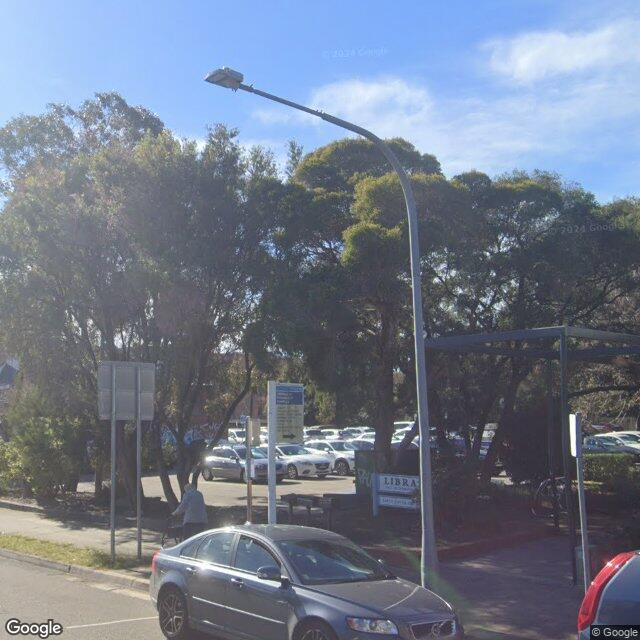steel-pole: (402, 179, 438, 590)
streetlight: (204, 66, 414, 192)
